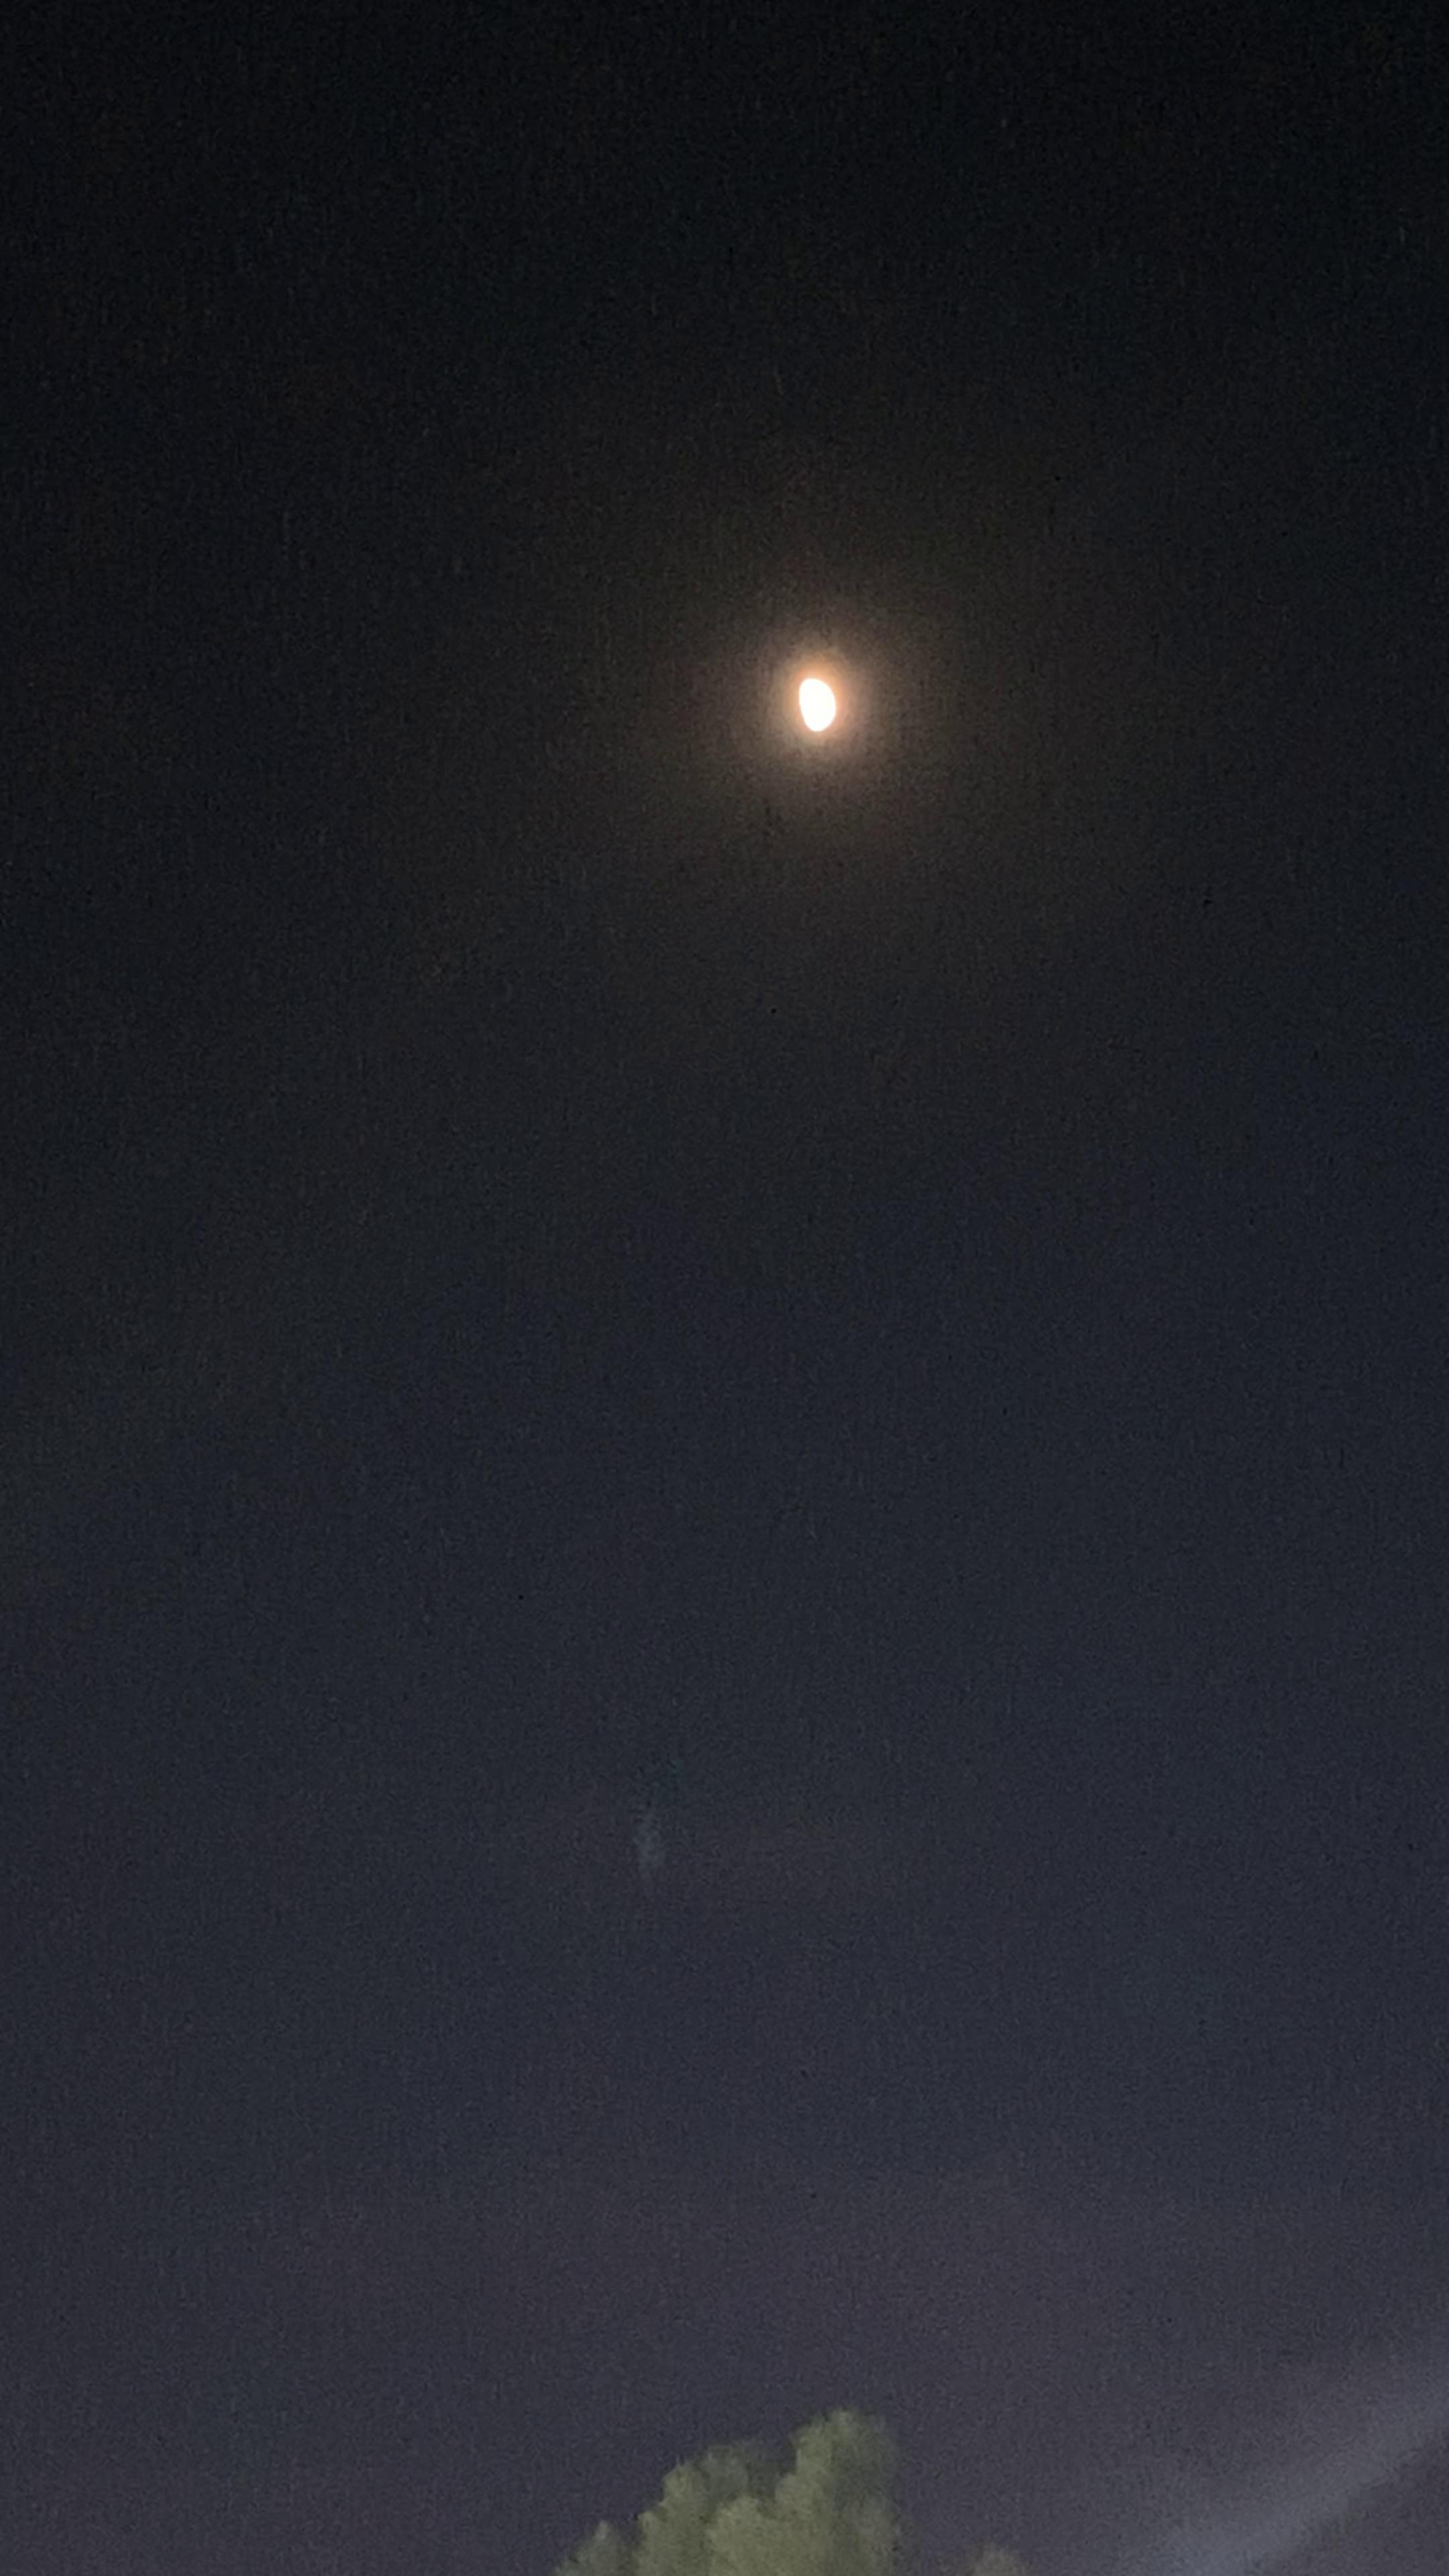moon: (732, 633, 892, 780)
